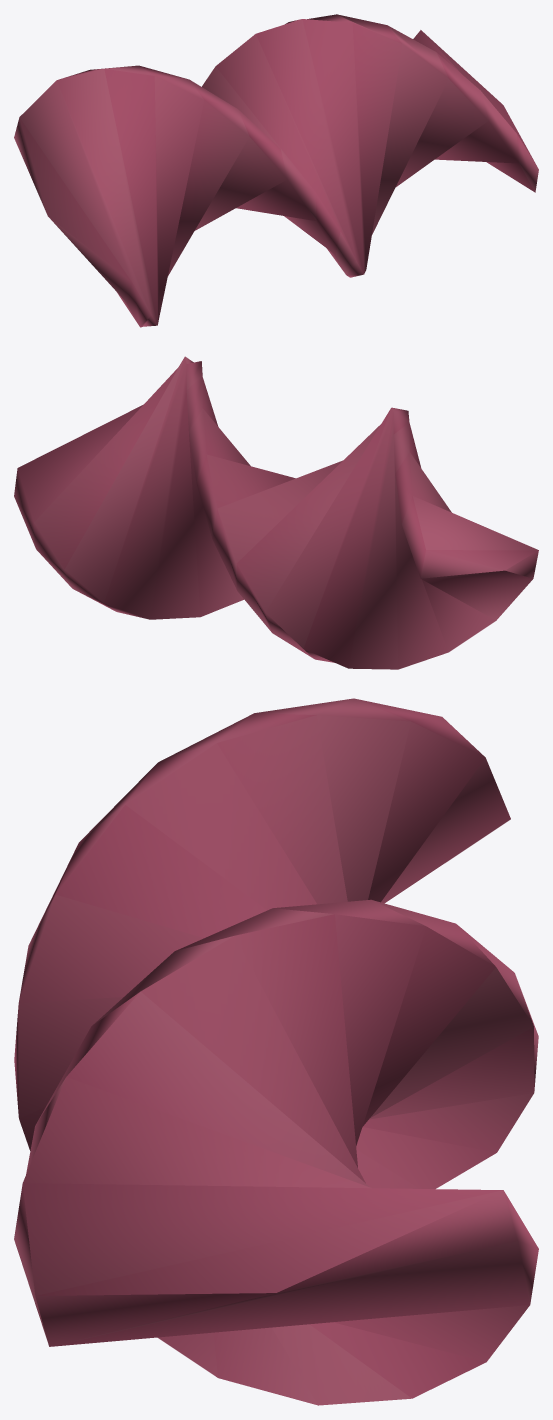
The model's file is Ribbon_Wood.glb.
3 views of the same model, one above another, from view 1: azimuth 30°, elevation 25°; view 2: azimuth 150°, elevation 25°; view 3: azimuth 270°, elevation 25° (orthographic). The views are drawn at different scales.
Visible parts, largest first — view 1: Ribbon; view 2: Ribbon; view 3: Ribbon.
Boxes of the visible parts, x1,y1,x2,y2 form: Ribbon: [14, 14, 538, 327]; Ribbon: [14, 356, 538, 669]; Ribbon: [14, 698, 538, 1405].
Size of the model in its own units: 1 by 0.5035 by 0.5035.
